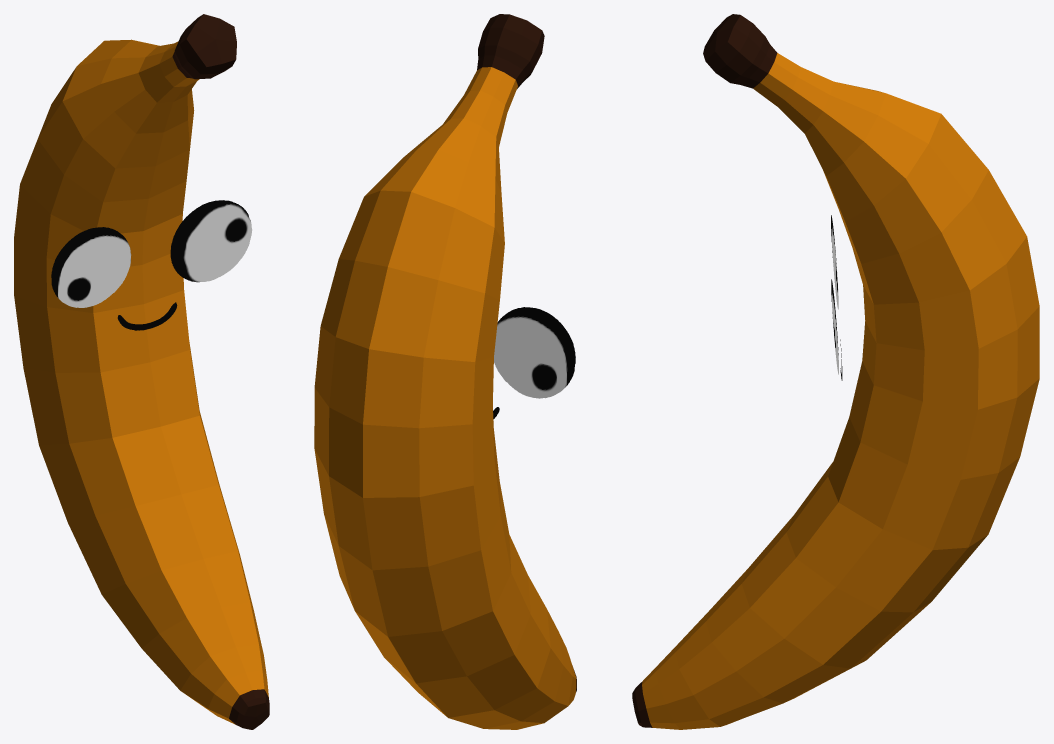
The model's file is Banana_000000.obj.
3 views of the same model, side by side, from view 1: azimuth 30°, elevation 25°; view 2: azimuth 150°, elevation 25°; view 3: azimuth 270°, elevation 25° (orthographic). The views are drawn at different scales.
Parts seen in each view (by area): view 1: Banana_to_export.003_Cylinder.004, Plane.004; view 2: Banana_to_export.003_Cylinder.004, Plane.004; view 3: Banana_to_export.003_Cylinder.004, Plane.004.
Part boxes in pixels (x1,y1,x2,y2): Banana_to_export.003_Cylinder.004: (14, 14, 269, 729); Plane.004: (51, 200, 252, 330); Banana_to_export.003_Cylinder.004: (314, 14, 576, 729); Plane.004: (493, 307, 575, 419); Banana_to_export.003_Cylinder.004: (632, 14, 1039, 729); Plane.004: (831, 215, 842, 380).
Bounding box in the file's own units: 0.237 × 0.6166 × 0.3191.
